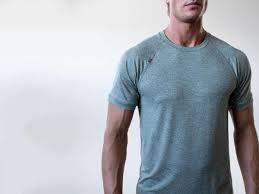Tshirt: (107, 30, 255, 194)
